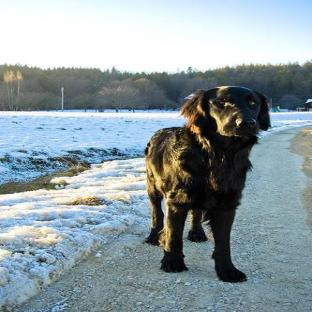Animal: (144, 86, 270, 282)
